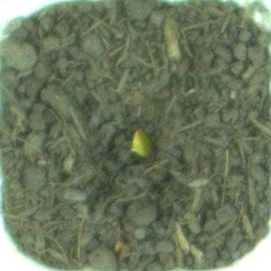chilli seed: (128, 125, 156, 159)
